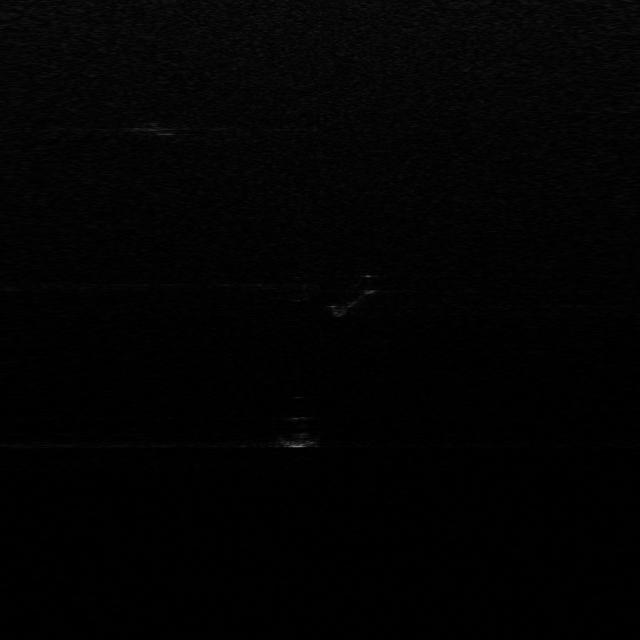ball: (276, 413, 323, 446)
tyre: (328, 271, 376, 317)
